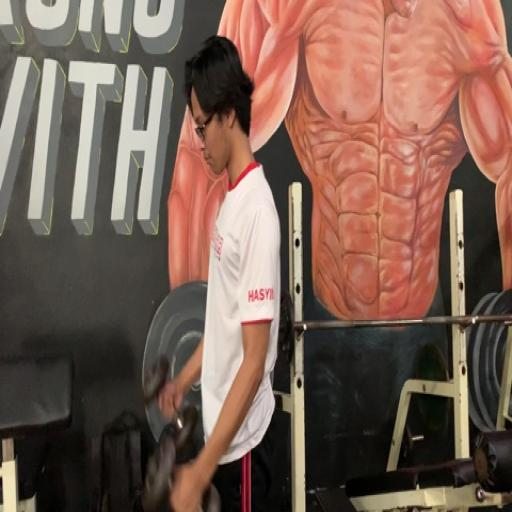exercise: (157, 32, 285, 510)
